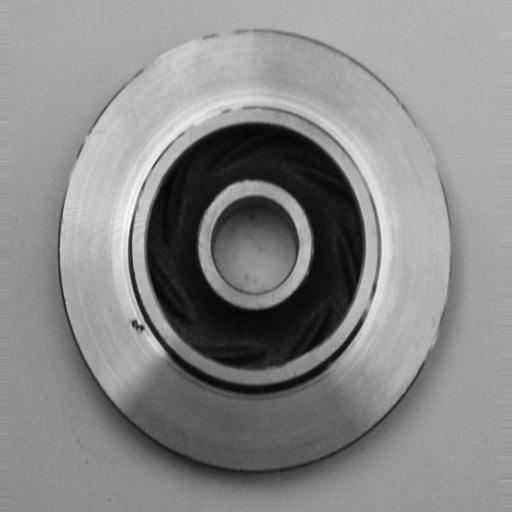crack: (118, 312, 155, 345)
scratch: (177, 95, 252, 137)
unpolished_casting: (55, 25, 456, 477)
